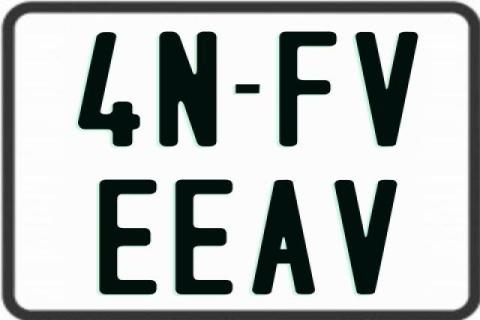0: (75, 32, 143, 150)
A: (250, 180, 317, 294)
E: (99, 178, 161, 298), (174, 179, 237, 296)
F: (277, 32, 335, 149)
N: (158, 31, 222, 149)
V: (356, 31, 424, 147), (333, 177, 398, 297)
